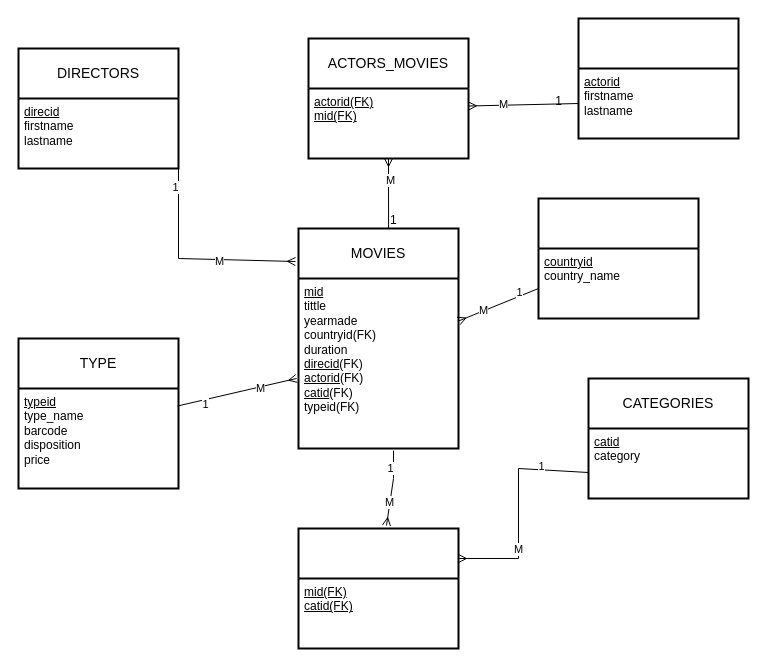
Image size: 766x666. Some labels were removed from this diagram. Here are the shapes that lost their labels. From the top down, the box of each, then its label:
(577, 17, 739, 139): ACTORS
(537, 197, 699, 319): COUNTRIES
(297, 527, 459, 649): MOVIES_CATEGORIES
